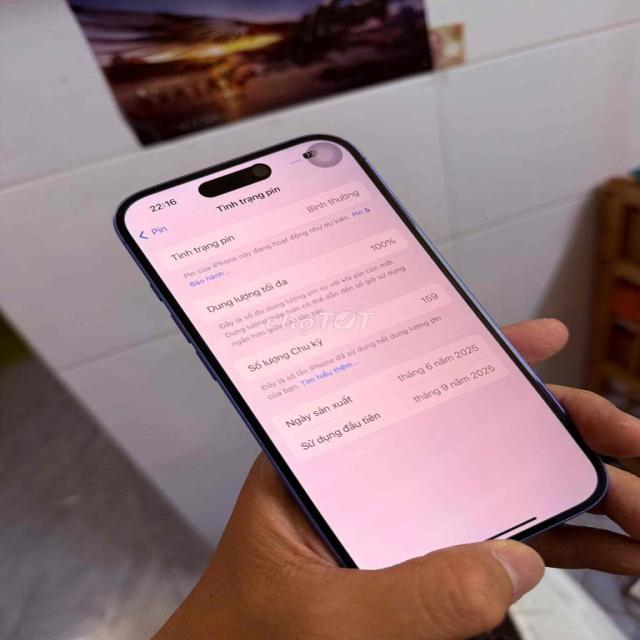gen_16: (117, 135, 604, 569)
